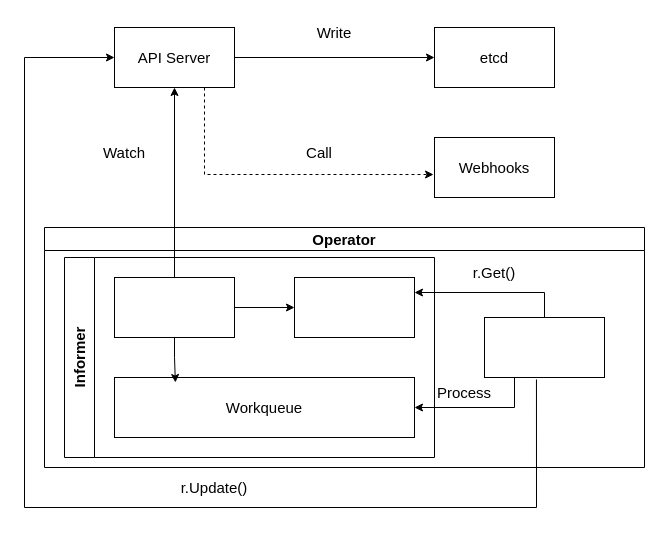
The diagram is 662 pixels wide and 533 high, and some of its shapes have lost their labels. The shapes that lost their labels are listed below. From the top down, each one's centre as x and y in pixels, then its label:
At [174,307]: "Reflector".
At [354,307]: "Cache".
At [544,347]: "Reconciler".
